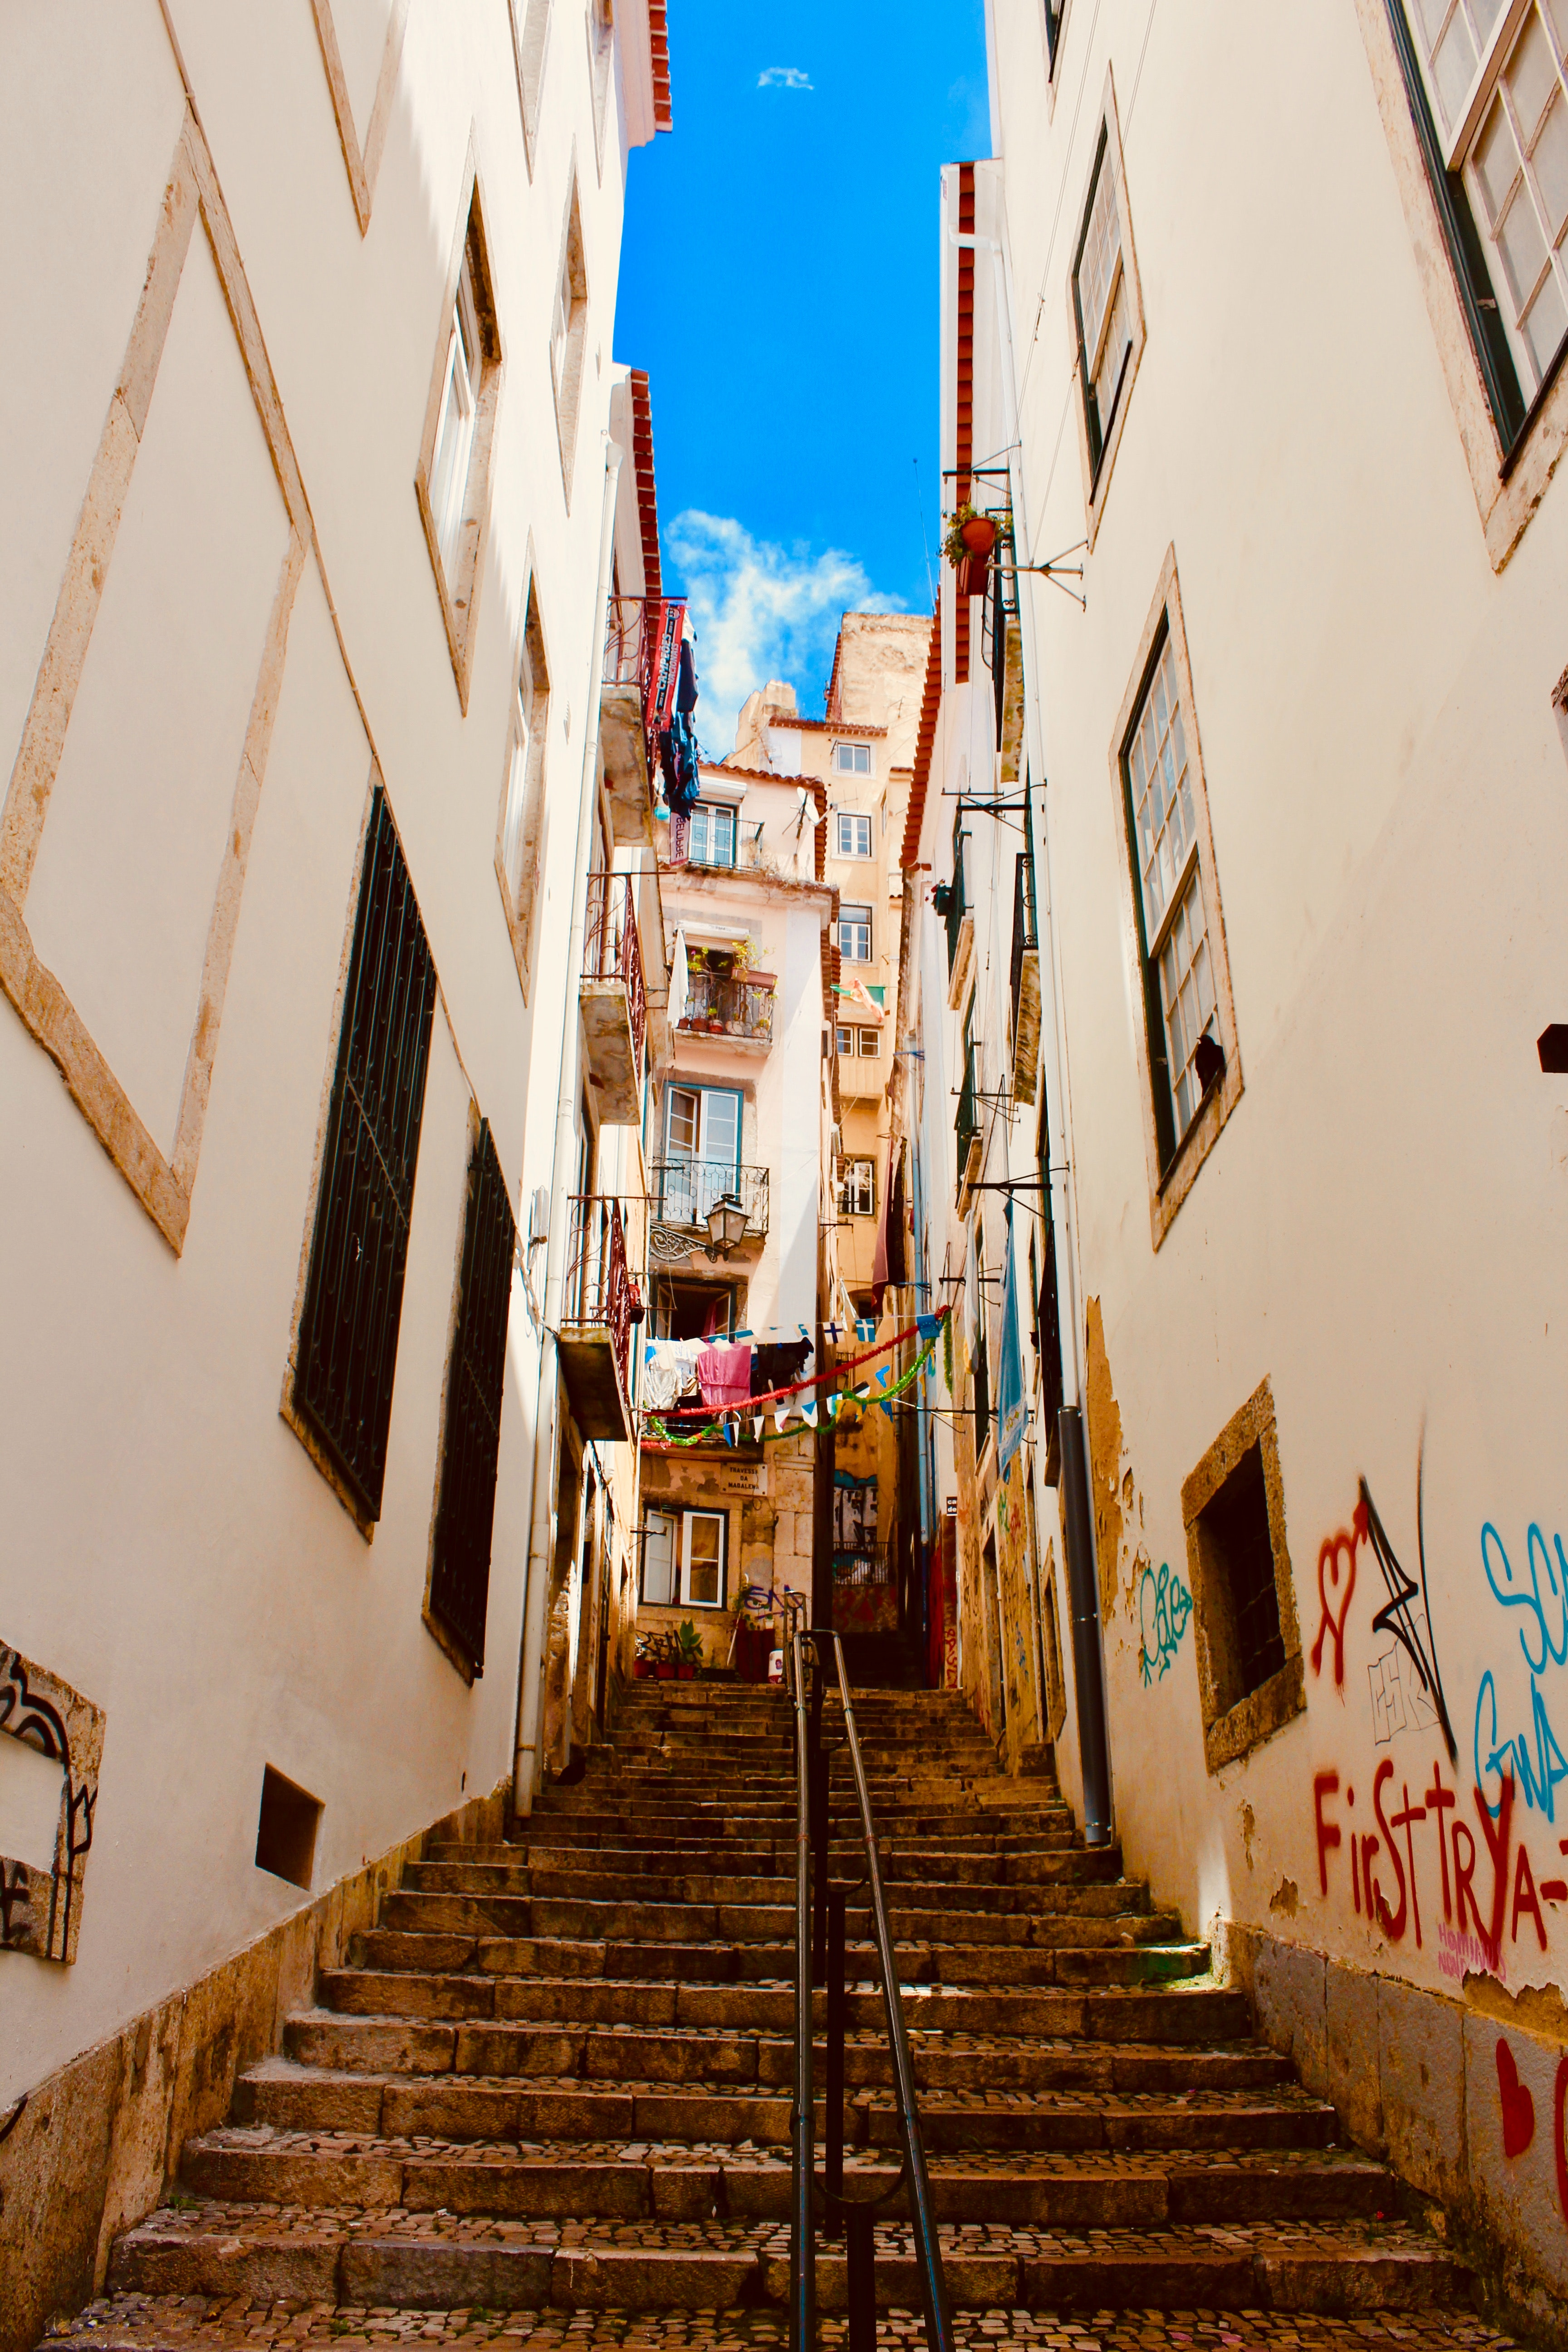upstairs: (296, 2016, 1302, 2352)
